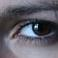eye: (33, 23, 52, 36)
